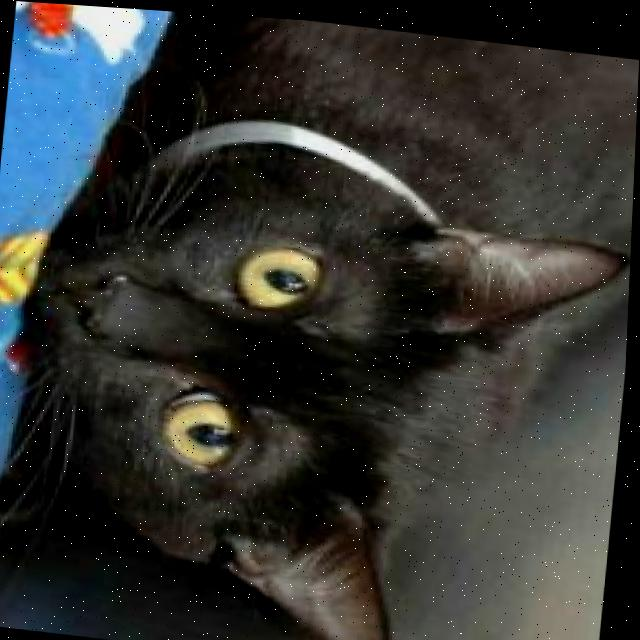Bombay: (0, 1, 640, 640)
